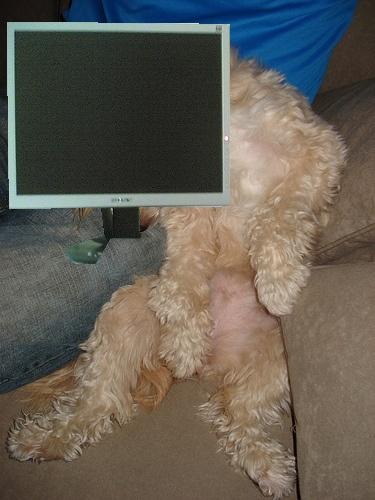tampered: (8, 23, 230, 264)
